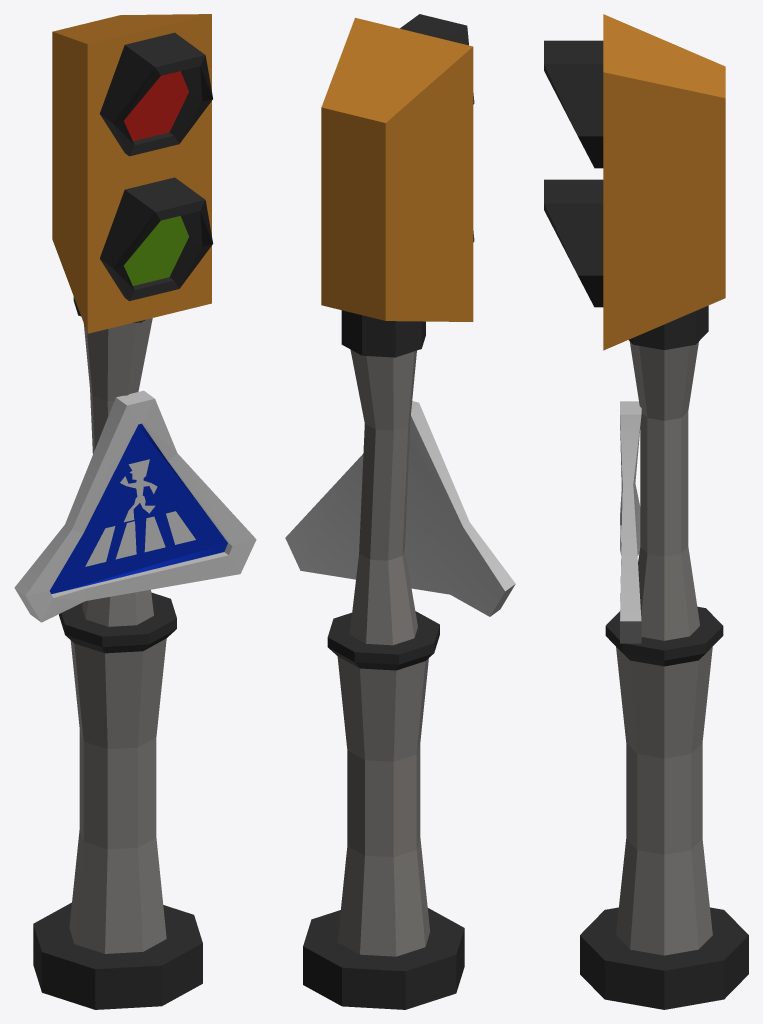
Rendered from Traffic_light_A_01.FBX.
3 renders of one model, left to right at view 1: azimuth 30°, elevation 25°; view 2: azimuth 150°, elevation 25°; view 3: azimuth 270°, elevation 25°, orthographic. The views are drawn at different scales.
Visible parts, largest first — view 1: Traffic_light_A_01; view 2: Traffic_light_A_01; view 3: Traffic_light_A_01.
Boxes of the visible parts, x1,y1,x2,y2 form: Traffic_light_A_01: [14, 14, 256, 1009]; Traffic_light_A_01: [285, 14, 515, 1009]; Traffic_light_A_01: [544, 14, 748, 1009].
Size of the model in its own units: 0.8919 by 3.57 by 0.7118.
